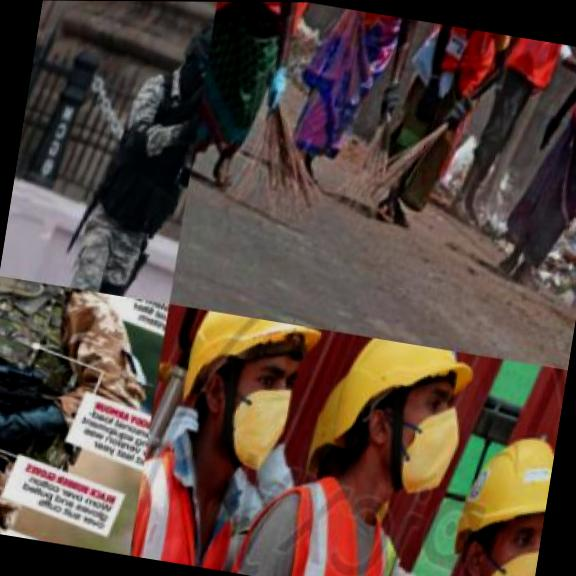safety_vest: (188, 441, 442, 576), (86, 55, 206, 245), (130, 441, 270, 576), (0, 274, 104, 451), (411, 21, 514, 98), (214, 2, 331, 43), (497, 35, 576, 95), (334, 7, 430, 40), (557, 66, 576, 159), (346, 568, 531, 576)
